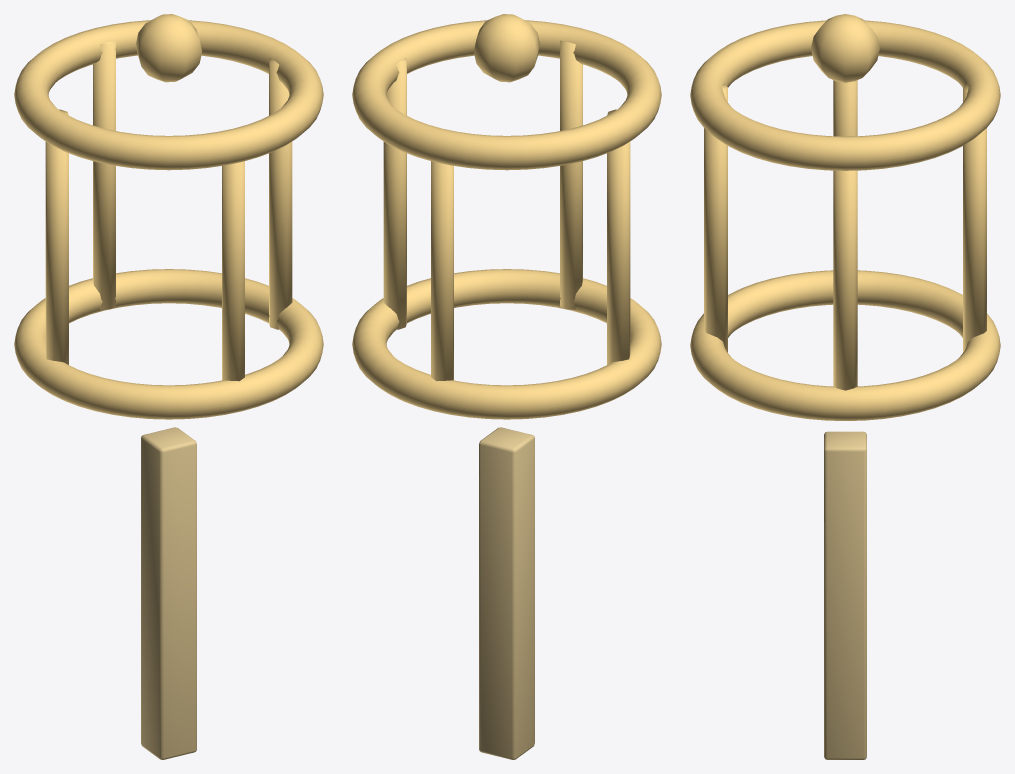
File: opera_lantern.glb
3 views of the same model, side by side, from view 1: azimuth 30°, elevation 25°; view 2: azimuth 150°, elevation 25°; view 3: azimuth 270°, elevation 25° (orthographic).
Parts seen in each view (by area): view 1: cage_hi, cage_lo, post, bar.002, bar.001, bar.003, bar, cap; view 2: cage_hi, cage_lo, post, bar.002, bar.003, bar.001, bar, cap; view 3: cage_hi, cage_lo, post, bar, bar.001, bar.003, cap, bar.002.
Part boxes in pixels (<box>): cage_hi: <box>14,20,323,170</box>; cage_lo: <box>14,269,323,419</box>; post: <box>141,427,196,759</box>; bar.002: <box>45,109,68,364</box>; bar.001: <box>93,40,115,309</box>; bar.003: <box>222,161,244,381</box>; bar: <box>269,58,292,329</box>; cap: <box>135,14,201,82</box>; cage_hi: <box>352,20,661,170</box>; cage_lo: <box>352,269,661,419</box>; post: <box>479,427,534,759</box>; bar.002: <box>607,109,630,364</box>; bar.003: <box>560,40,582,309</box>; bar.001: <box>431,161,453,381</box>; bar: <box>383,58,406,329</box>; cap: <box>474,14,540,82</box>; cage_hi: <box>690,20,1000,170</box>; cage_lo: <box>690,270,1000,420</box>; post: <box>824,431,866,759</box>; bar: <box>833,170,857,390</box>; bar.001: <box>963,83,986,352</box>; bar.003: <box>704,83,727,352</box>; cap: <box>811,14,879,82</box>; bar.002: <box>833,80,857,136</box>.
Size of the model in its own units: 1.8 by 4.7 by 1.8.
